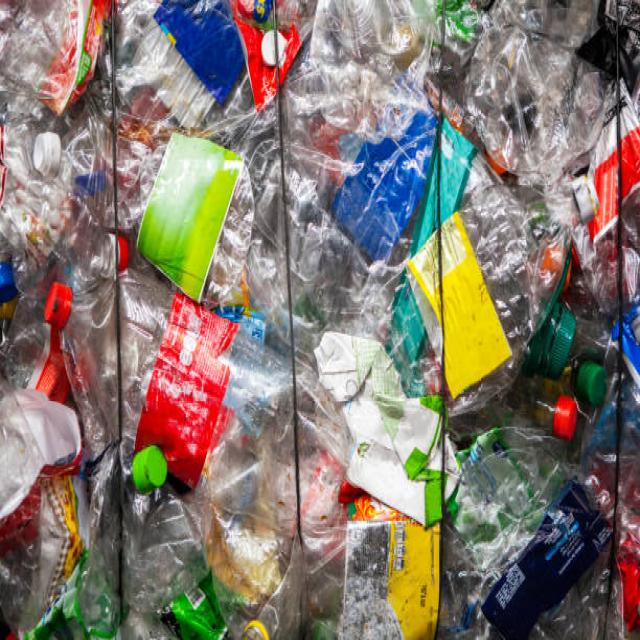plastic: (1, 18, 617, 570)
